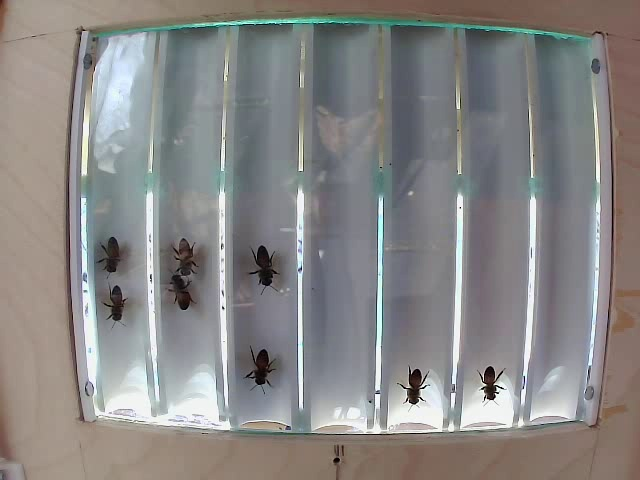bee: (243, 232, 284, 300), (233, 331, 277, 390), (91, 232, 134, 277), (173, 234, 203, 286), (169, 279, 200, 322), (99, 278, 126, 319), (464, 369, 499, 400), (410, 360, 429, 413)
